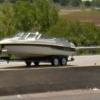Boat: (1, 24, 81, 72)
